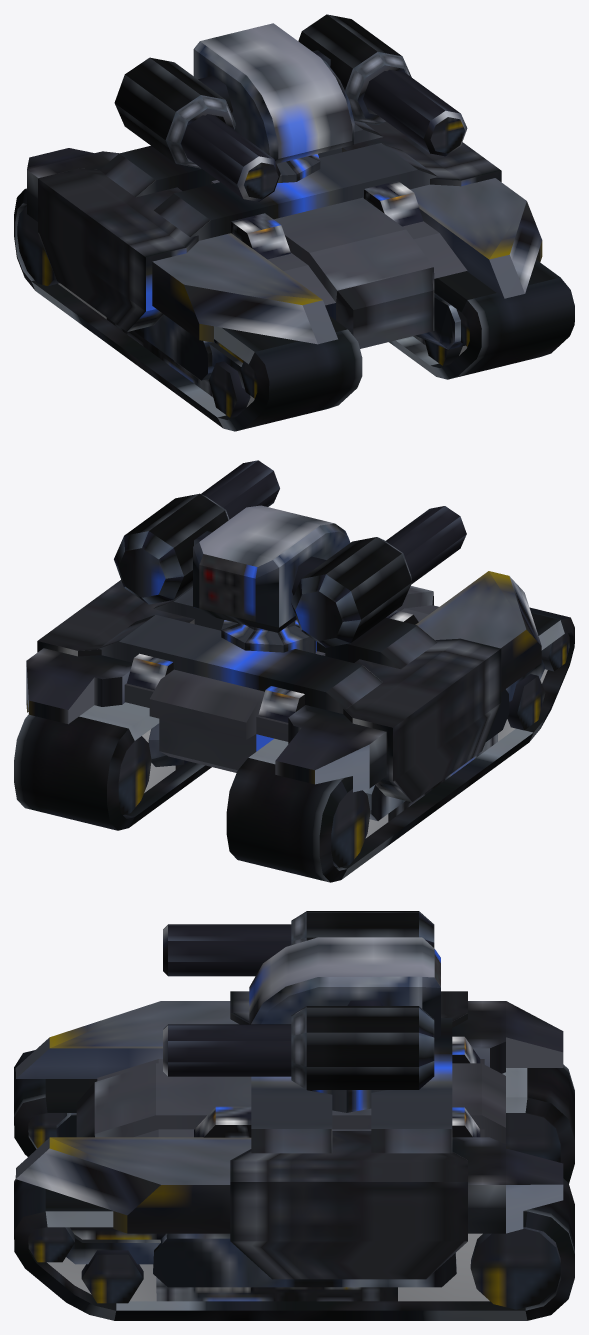
Rendered from armflash_blue.glb.
3 renders of one model, top to bottom at view 1: azimuth 30°, elevation 25°; view 2: azimuth 150°, elevation 25°; view 3: azimuth 270°, elevation 25°, orthographic. The views are drawn at different scales.
Parts seen in each view (by area): view 1: base, track, parts, turret, sleeve, lbarrel, rbarrel; view 2: base, track, parts, sleeve, turret, rbarrel, lbarrel; view 3: base, track, parts, sleeve, turret, lbarrel, rbarrel.
Boxes of the visible parts, box(x1,y1,x2,y2) form: base: box(27, 107, 542, 389); track: box(14, 188, 574, 431); parts: box(17, 121, 469, 417); turret: box(193, 23, 354, 163); sleeve: box(114, 14, 411, 168); lbarrel: box(363, 69, 467, 156); rbarrel: box(181, 114, 280, 201); base: box(26, 571, 545, 820); track: box(14, 607, 574, 882); parts: box(99, 586, 569, 867); sleeve: box(114, 493, 412, 647); turret: box(193, 505, 350, 632); rbarrel: box(386, 506, 466, 584); lbarrel: box(201, 460, 279, 519); base: box(15, 991, 563, 1287); track: box(14, 1050, 574, 1320); parts: box(28, 1018, 560, 1309); sleeve: box(291, 911, 434, 1089); turret: box(249, 937, 440, 1041); lbarrel: box(163, 1024, 291, 1076); rbarrel: box(163, 924, 291, 976).
Size of the model in its own units: 22.99 by 15.85 by 28.57.
Materials: 1 (1 with a texture image).
